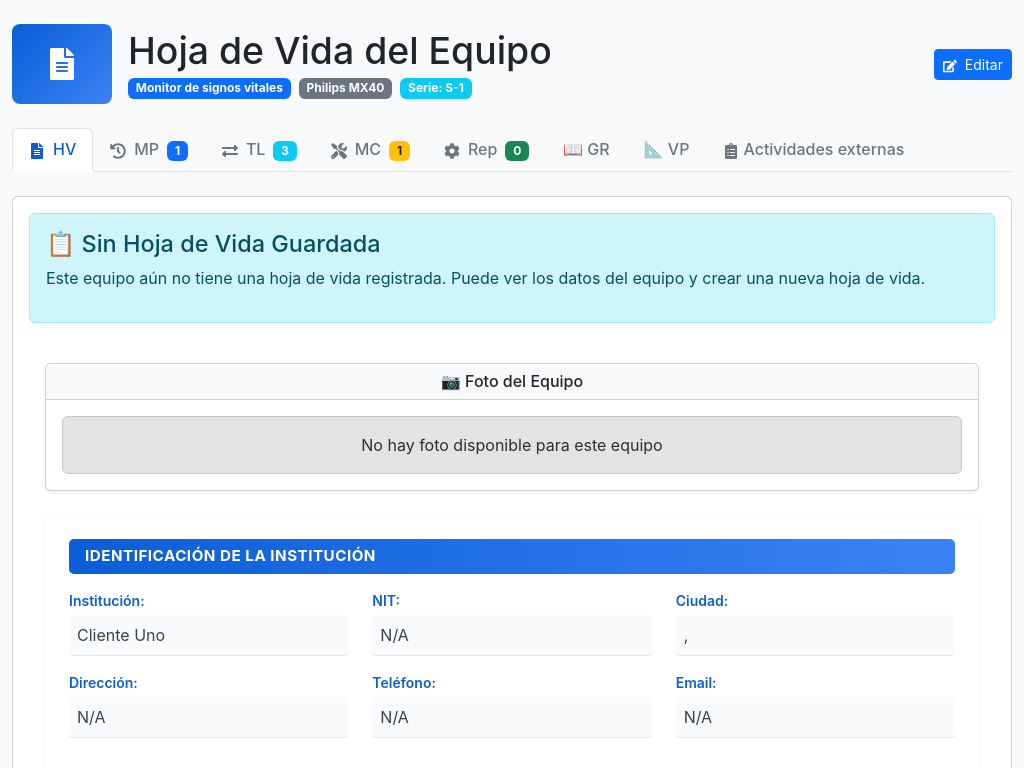
Test: HVEquipoPage — timeline tab (diff events + estadoOperativoHistory) › renders the estado-operativo event with source badge, transition, responsable and motivo
This screenshot has width=1024, height=768.
Click the tab titled "Historial de Cambios" at (259, 149), box top-left (205, 128), bottom-right (314, 170)
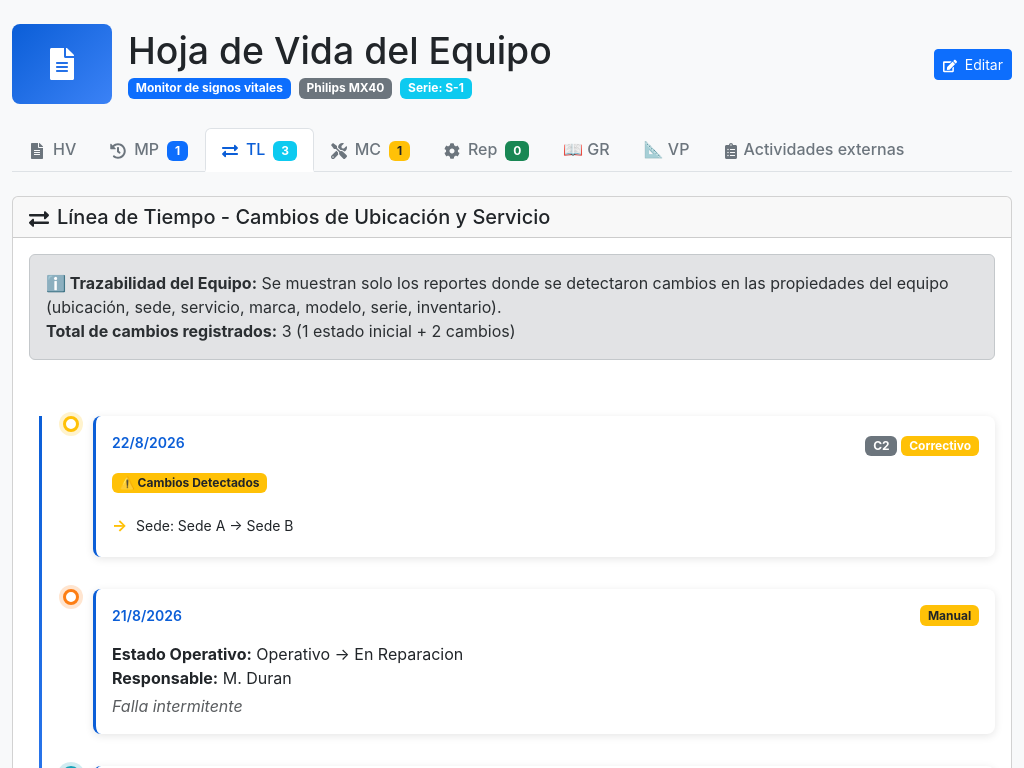
Check: the text "Manual" is shown, box top-left (920, 605), bottom-right (979, 626)
Check: the text "Estado Operativo: Operativo → En Reparacion" is shown, box top-left (112, 644), bottom-right (463, 664)
Check: the text "Responsable: M. Duran" is shown, box top-left (112, 668), bottom-right (292, 688)
